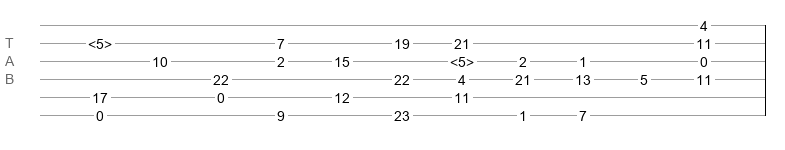0: (96, 108, 104, 118), (217, 90, 225, 100), (700, 54, 708, 64)
1: (519, 108, 527, 118), (579, 54, 587, 64)
10: (152, 54, 168, 64)
11: (454, 90, 470, 100), (696, 36, 712, 46), (696, 72, 712, 82)
12: (334, 90, 350, 100)
13: (575, 72, 591, 82)
15: (334, 54, 350, 64)
17: (92, 90, 108, 100)
19: (394, 36, 410, 46)
2: (277, 54, 285, 64), (519, 54, 527, 64)
21: (454, 36, 470, 46), (515, 72, 531, 82)
22: (213, 72, 229, 82), (394, 72, 410, 82)
23: (394, 108, 410, 118)
4: (458, 72, 466, 82), (700, 18, 708, 28)
5: (640, 72, 648, 82)
7: (277, 36, 285, 46), (579, 108, 587, 118)
9: (277, 108, 285, 118)
harmonic: (88, 36, 112, 46), (450, 54, 474, 64)
